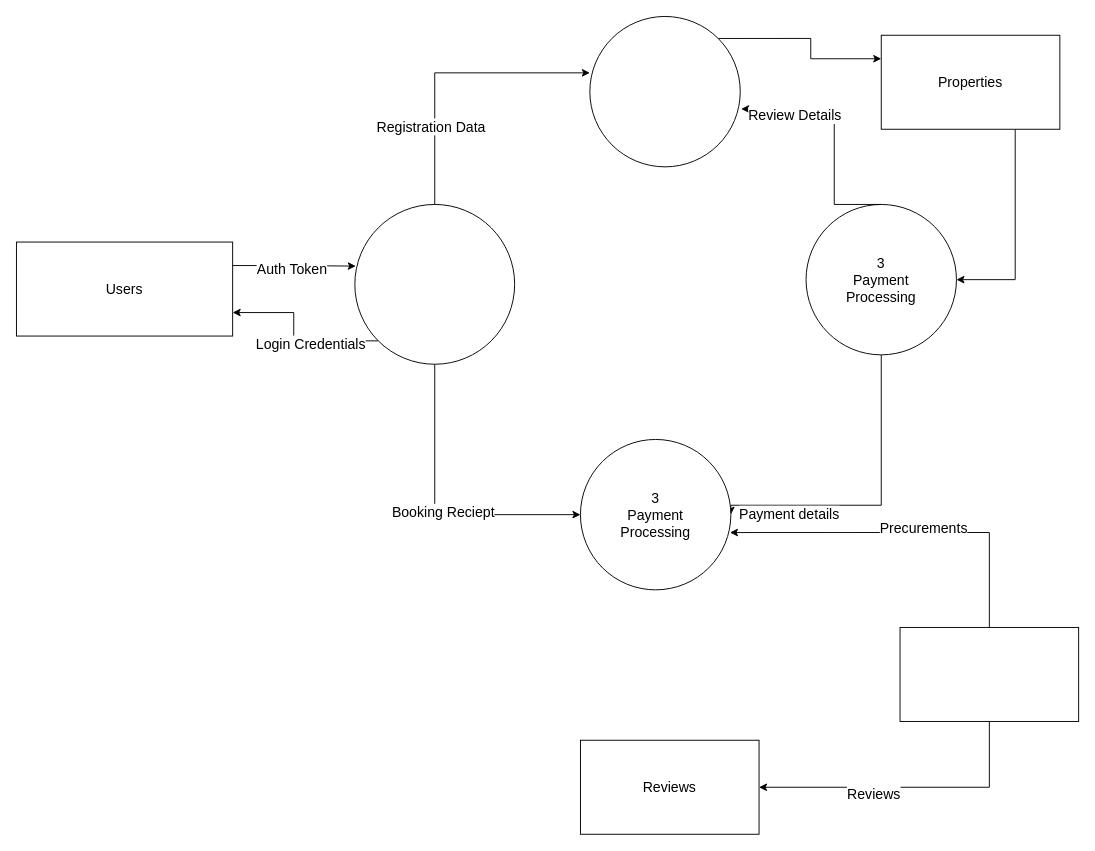
The diagram is 1095 pixels wide and 851 high, and some of its shapes have lost their labels. The shapes that lost their labels are listed below. From the top down, each one's centre as x and y in pixels, then its label:
At (x=664, y=91): "2 Property management".
At (x=434, y=284): "1 User Authentication".
At (x=989, y=674): "Payments".
